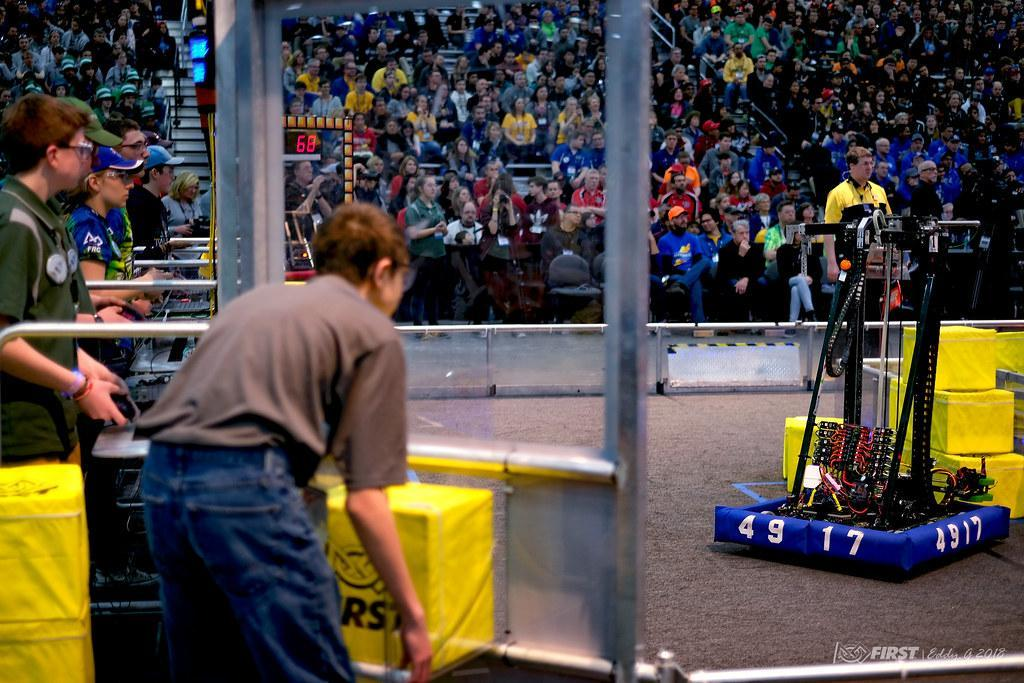robot: (706, 188, 1018, 586)
